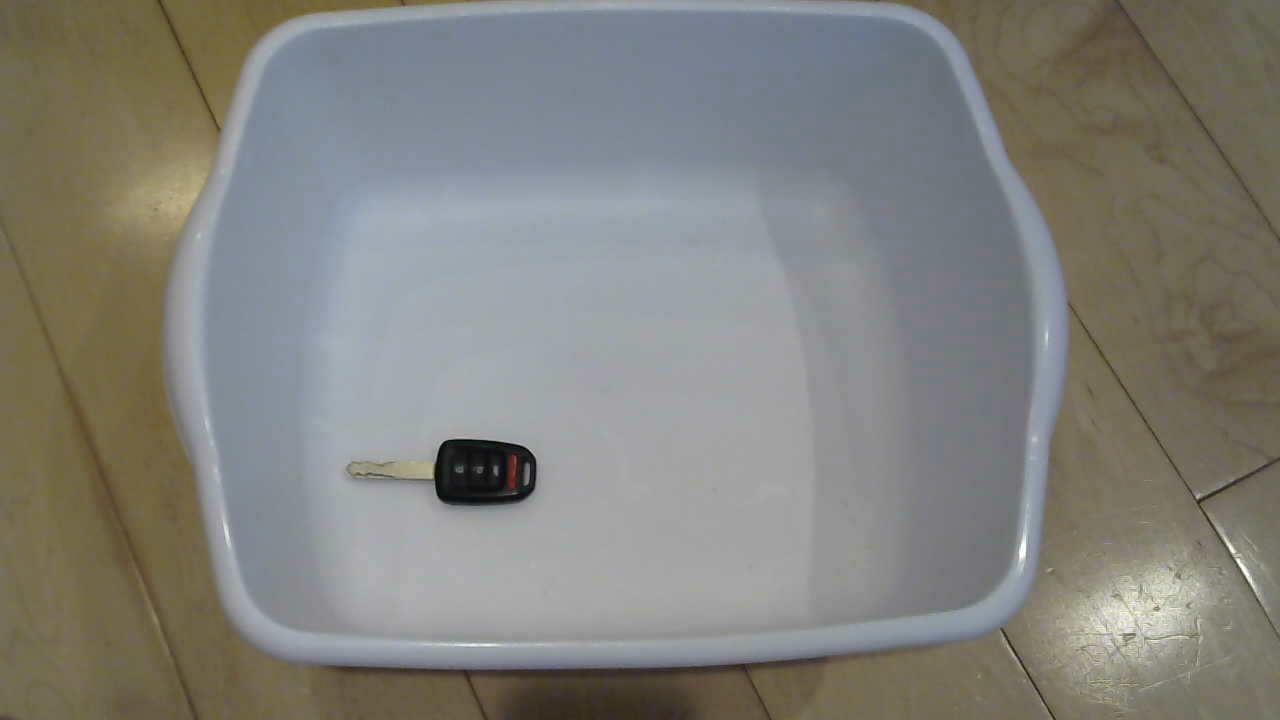key: (337, 436, 552, 525)
